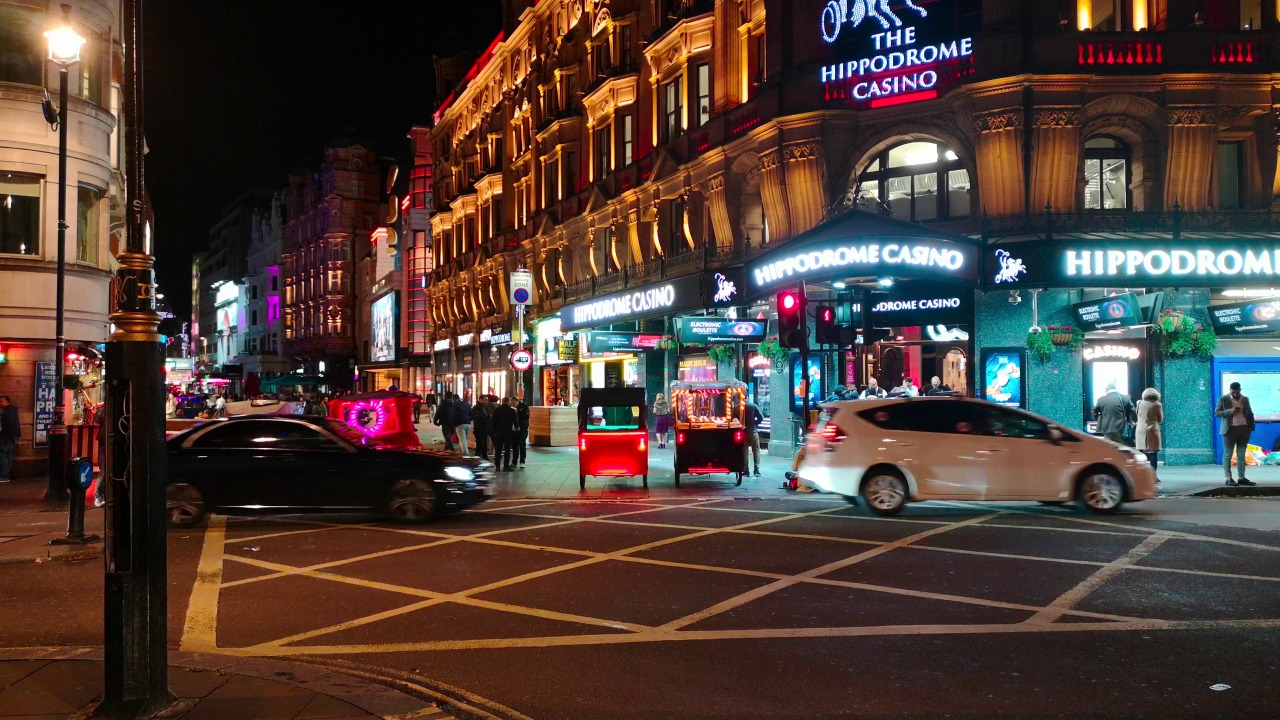car: (804, 404, 1167, 509), (169, 426, 494, 513), (582, 392, 653, 493), (677, 377, 744, 477), (320, 386, 415, 423)
person: (1220, 380, 1259, 486), (1092, 380, 1136, 431), (746, 394, 768, 477), (505, 397, 530, 468), (1, 390, 18, 488), (1146, 386, 1164, 461), (655, 394, 673, 449), (452, 391, 472, 428), (928, 369, 954, 393), (440, 390, 456, 425), (900, 376, 918, 396), (474, 395, 488, 413), (864, 377, 880, 386)
